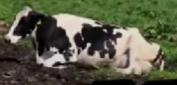cow: (4, 5, 166, 75)
